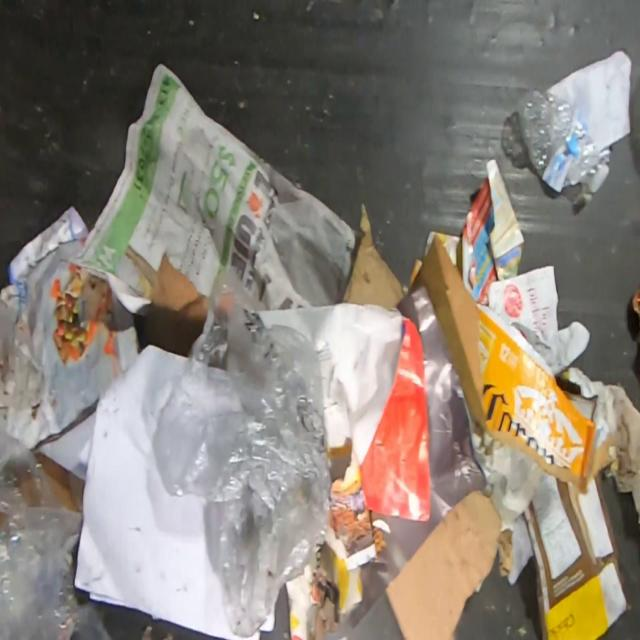cardboard: (411, 232, 594, 492), (384, 487, 514, 638), (520, 471, 631, 637), (142, 253, 210, 358), (341, 205, 406, 311), (564, 393, 597, 422)
rigid_plastic: (518, 87, 610, 195)
soft_plastic: (157, 265, 332, 640), (0, 430, 108, 639)
